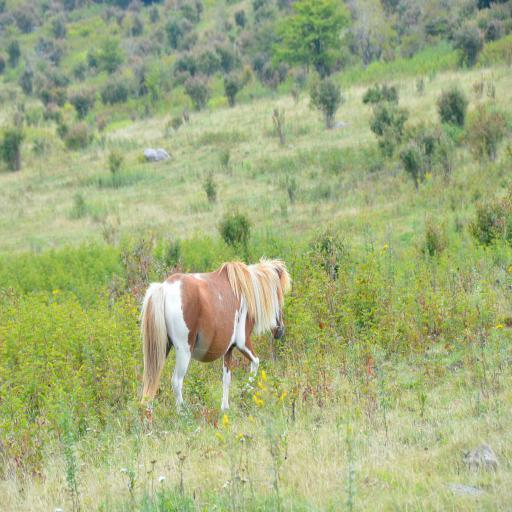horse: (140, 250, 294, 428)
